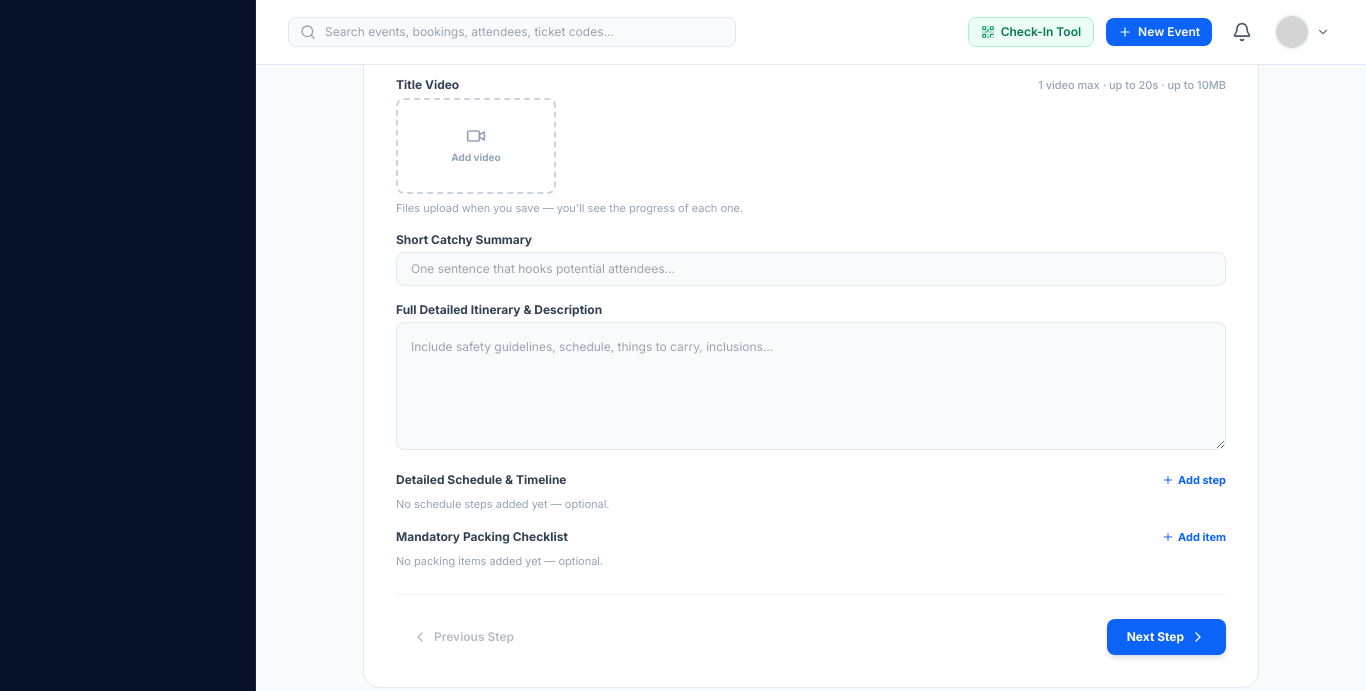
Test case: CreateEvent: schedule, packing checklist, and FAQ › adds, fills in, and removes schedule and packing checklist rows on the basic info step
(page scrolled)
Click the button "Add step" at (1194, 480), box [1162,472,1226,488]
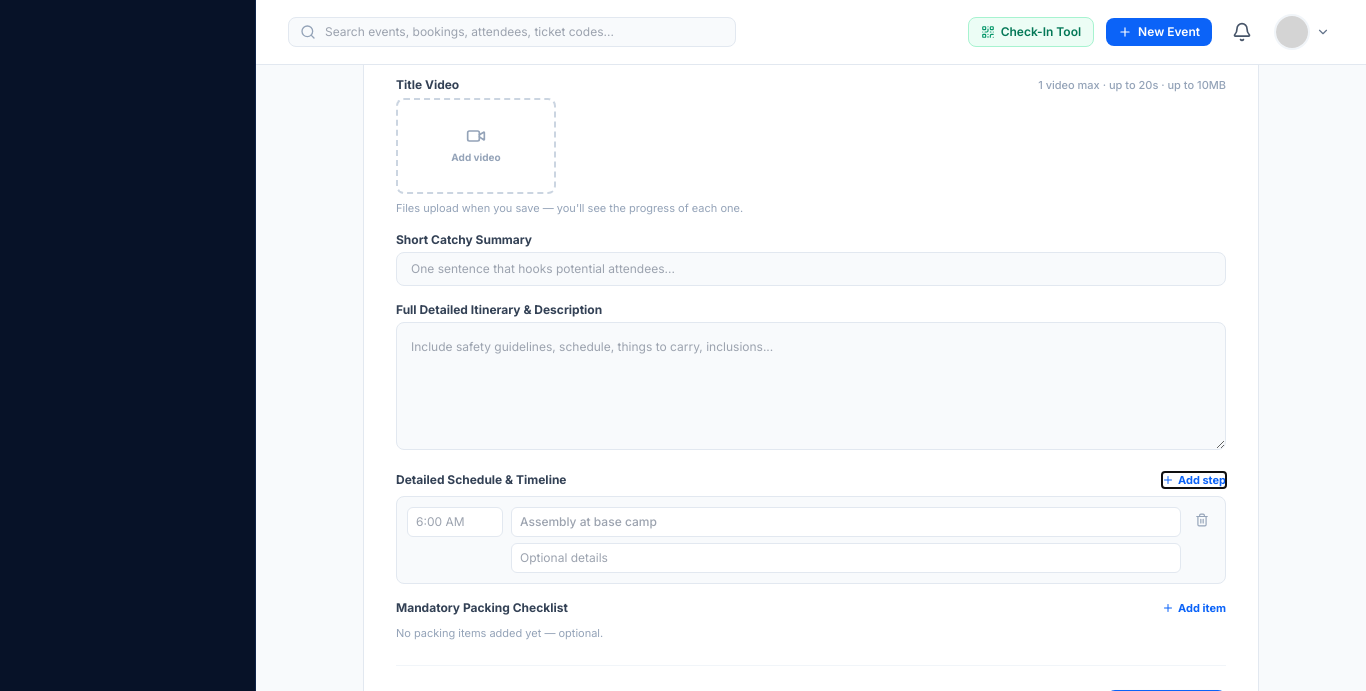
Type "06:00 AM" into the field with placeholder "6:00 AM" at (455, 522), box [407,507,503,537]
Type "Assembly" into the field with placeholder "Assembly at base camp" at (846, 522), box [511,507,1181,537]
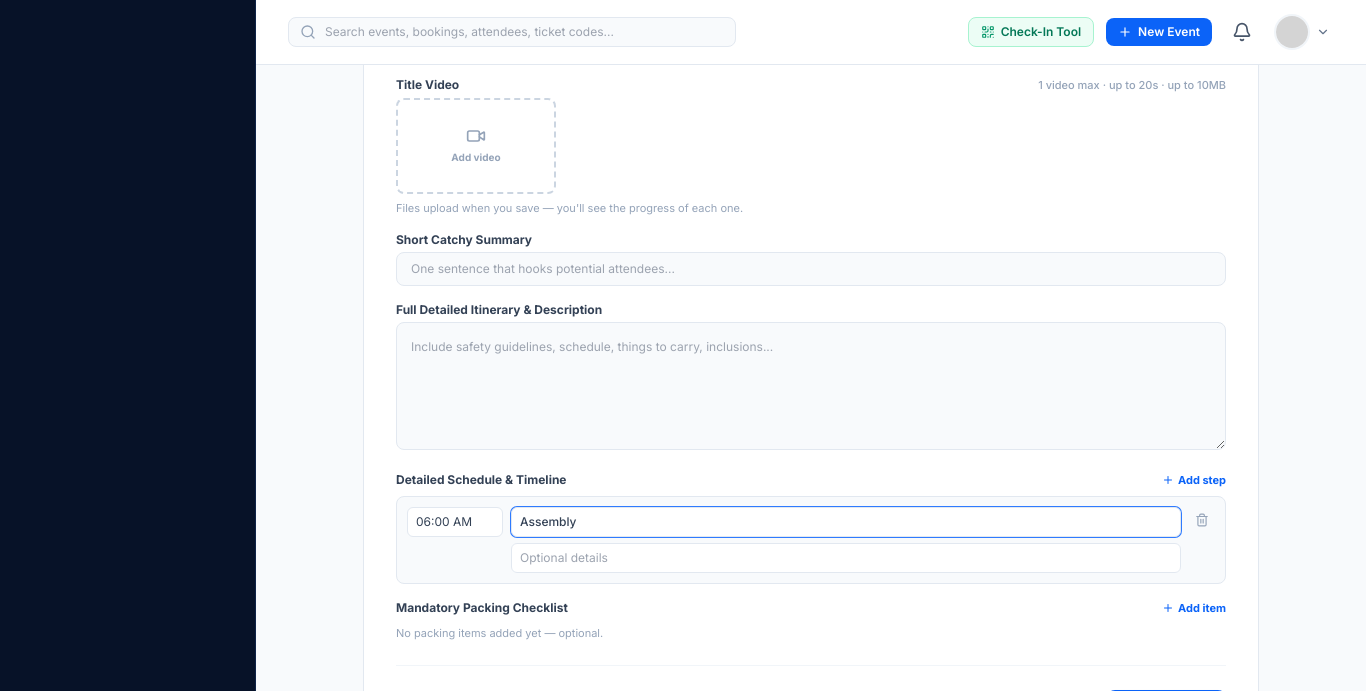
Click the button "Add item" at (1194, 608), box [1162,600,1226,616]
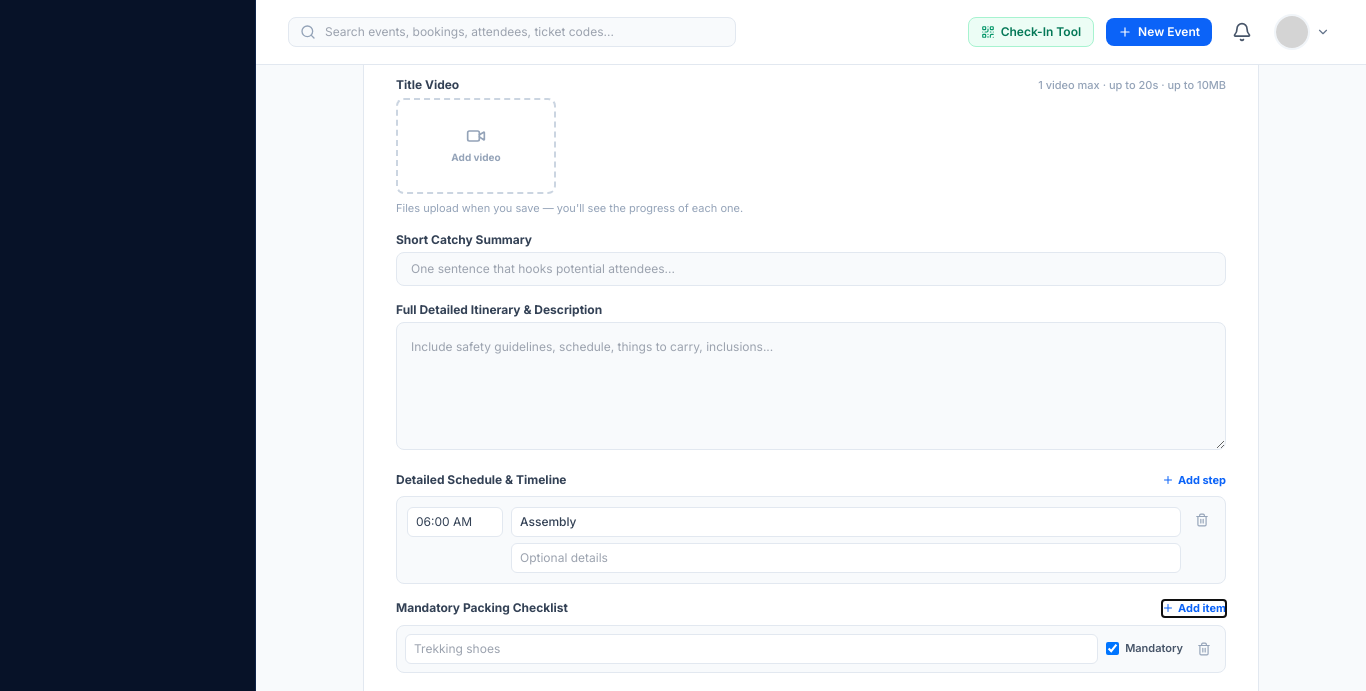
Type "Water bottle" into the field with placeholder "Trekking shoes" at (752, 648), box [405,634,1098,664]
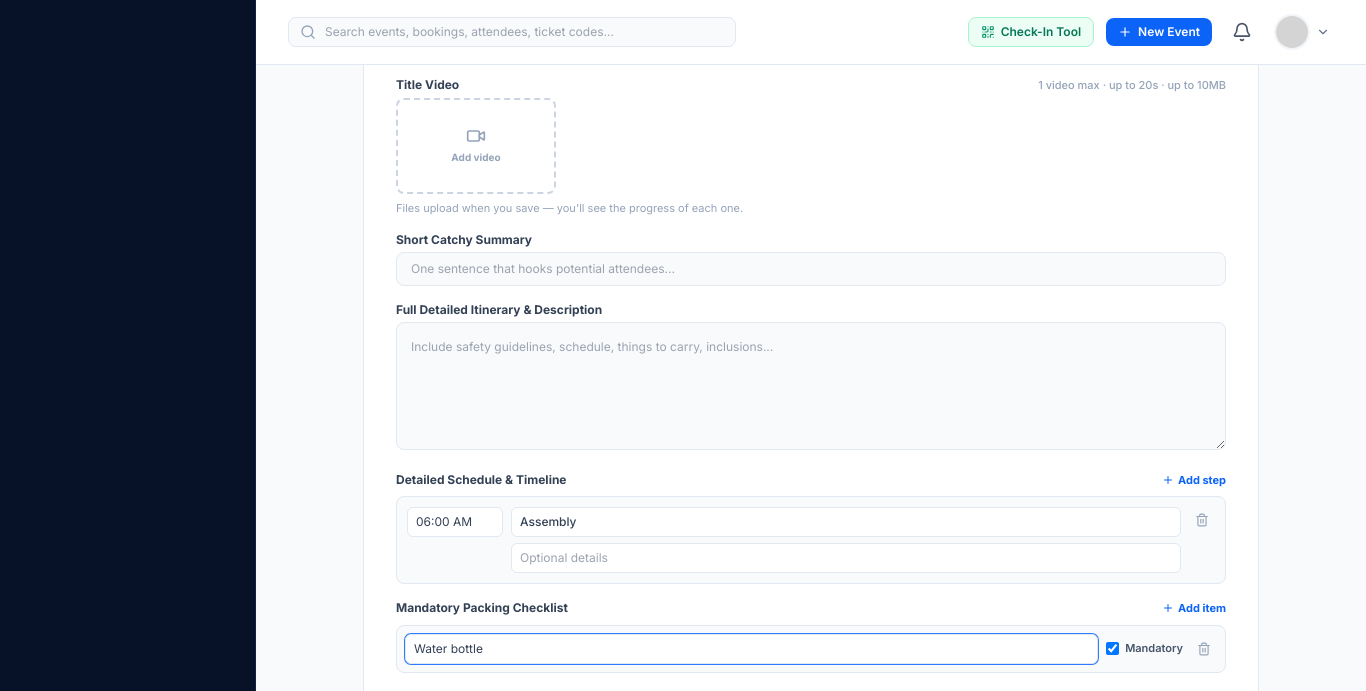
// Removing brings back the "nothing added yet" empty state.
Click the button named "remove step" at (1202, 520), box [1189,507,1215,533]
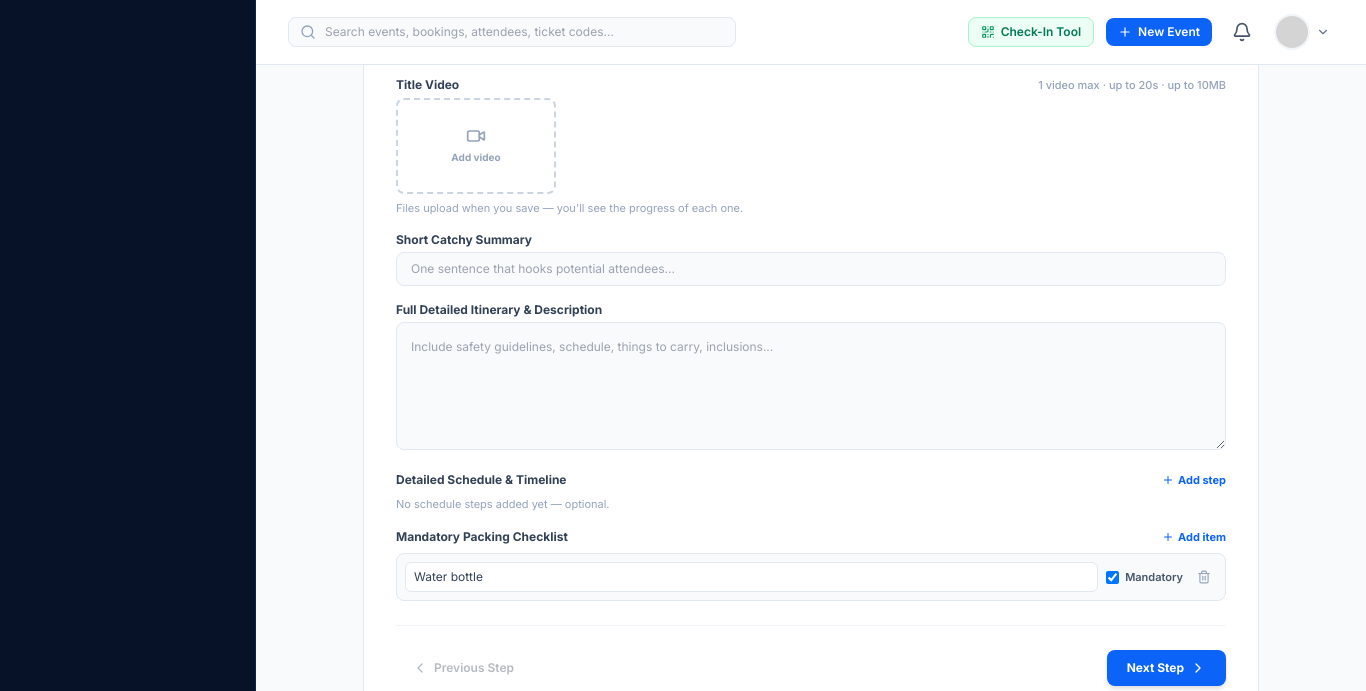
Now the text "No schedule steps added yet — optional." is shown, box [396,497,610,511]
Click the button named "remove item" at (1204, 577), box [1191,564,1217,590]
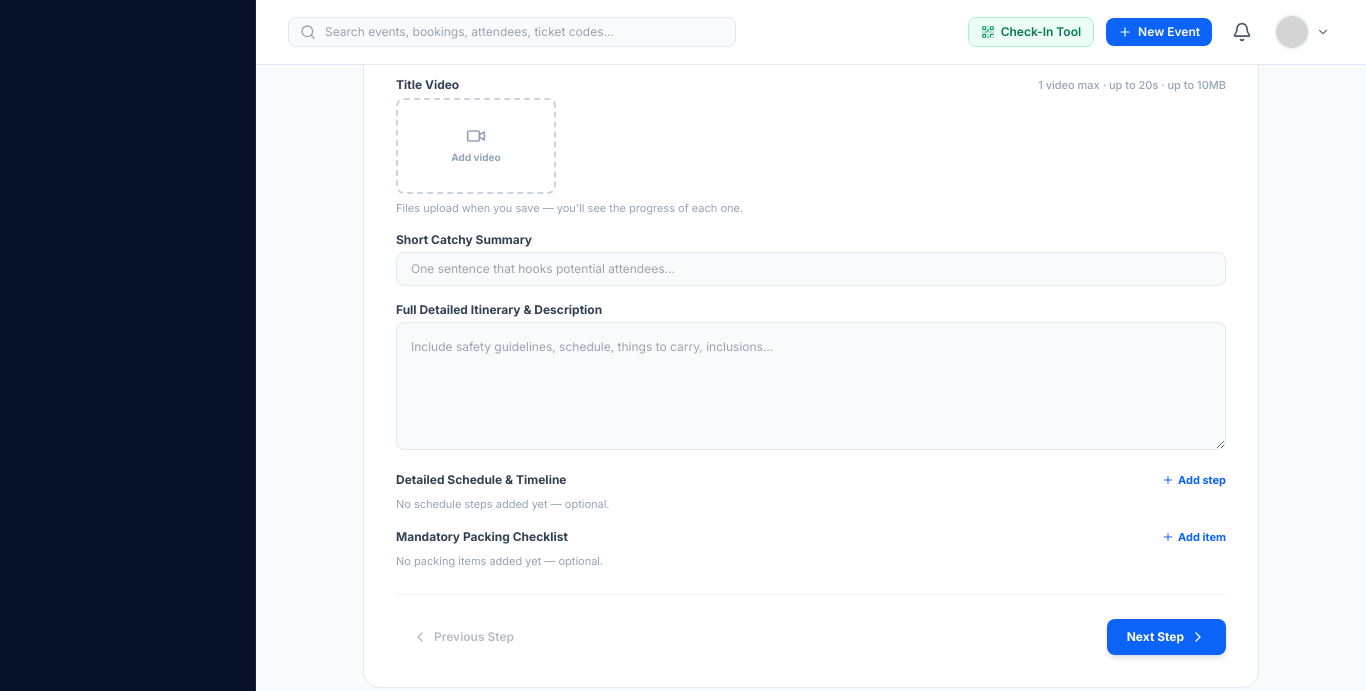
Now the text "No packing items added yet — optional." is shown, box [396,554,603,568]
